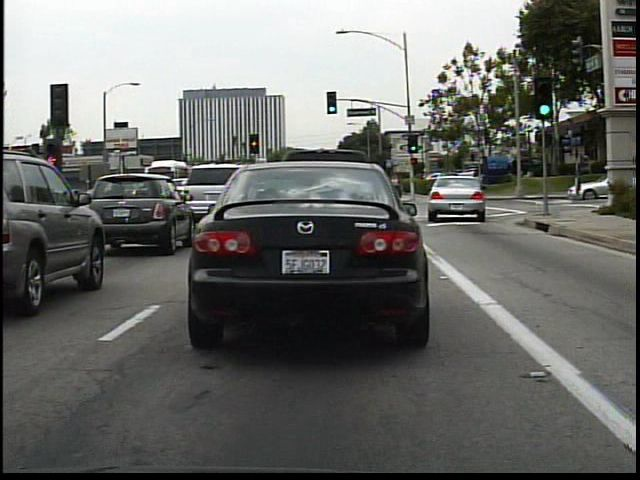person: (388, 172, 407, 203)
